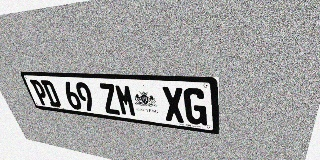6: (61, 81, 83, 110)
9: (74, 82, 97, 112)
D: (40, 80, 62, 107)
G: (183, 88, 207, 126)
M: (114, 84, 137, 117)
P: (29, 79, 51, 106)
X: (161, 86, 185, 123)
Z: (98, 83, 121, 115)
